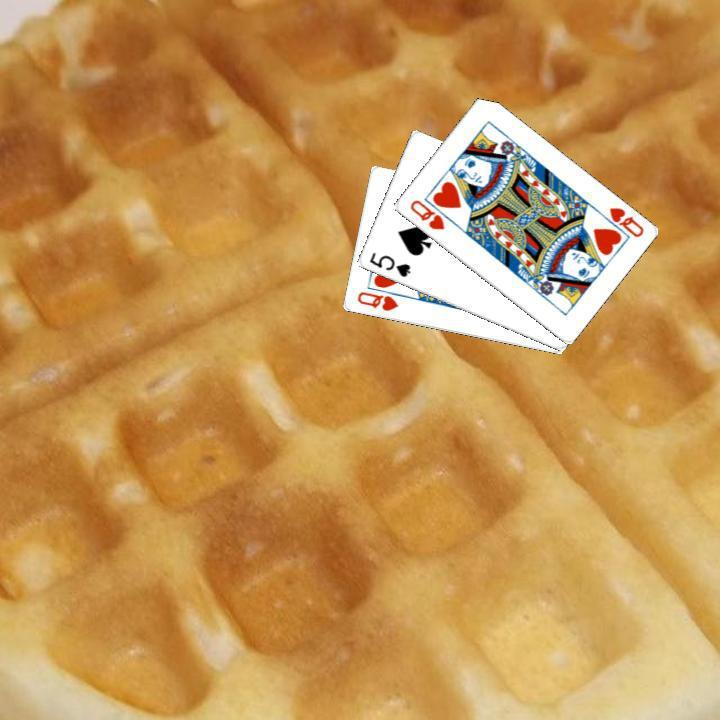5: (364, 248, 412, 279)
Q: (594, 203, 645, 241), (405, 195, 446, 232), (352, 287, 400, 313)
